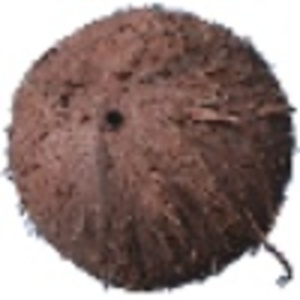coco: (3, 2, 300, 294)
